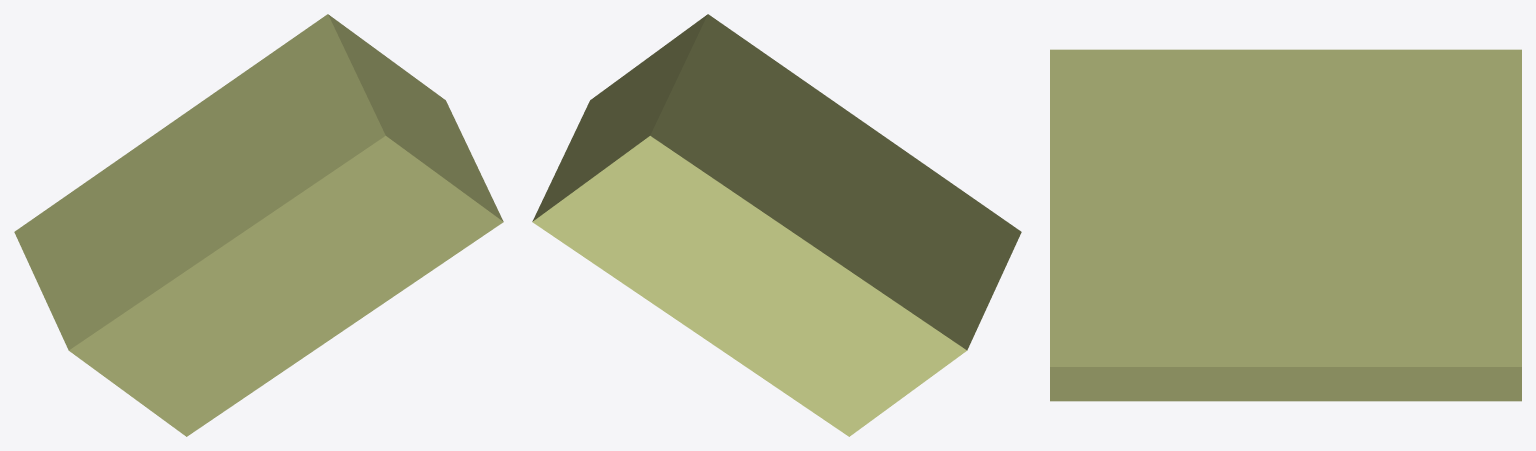
3 views of the same model, side by side, from view 1: azimuth 30°, elevation 25°; view 2: azimuth 150°, elevation 25°; view 3: azimuth 270°, elevation 25° (orthographic). The views are drawn at different scales.
Parts seen in each view (by area): view 1: 0_1_0_0_1_0_3_3_0_0; view 2: 0_1_0_0_1_0_3_3_0_0; view 3: 0_1_0_0_1_0_3_3_0_0.
Part boxes in pixels (box(x1,y1,x2,y2)): 0_1_0_0_1_0_3_3_0_0: box(14, 14, 503, 436); 0_1_0_0_1_0_3_3_0_0: box(532, 14, 1021, 436); 0_1_0_0_1_0_3_3_0_0: box(1050, 49, 1521, 401).
Size of the model in its own units: 10.91 by 7.67 by 6.
